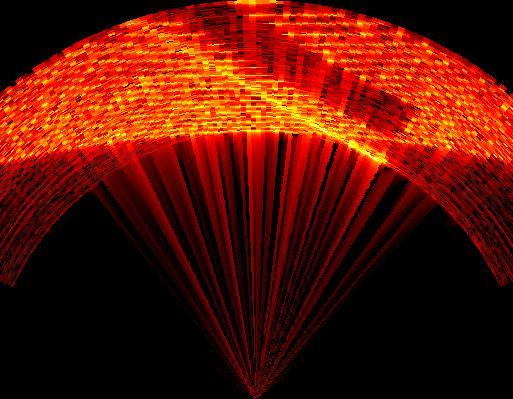pipe: (142, 6, 418, 161)
